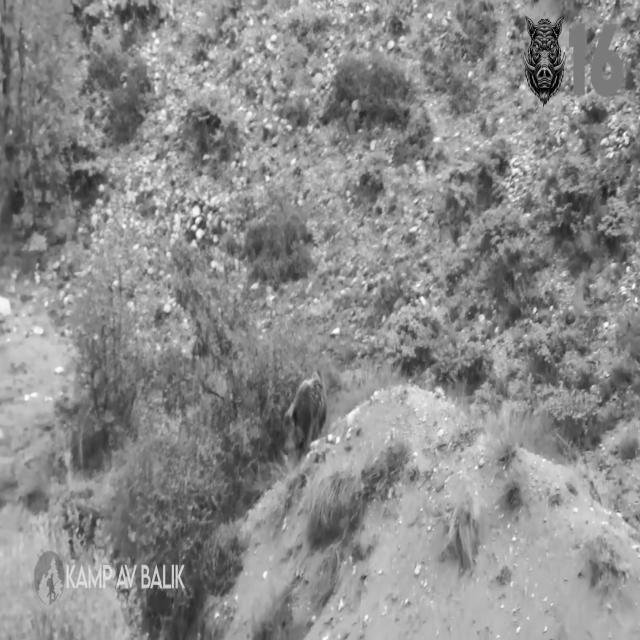boar: (525, 14, 566, 105), (284, 372, 326, 452)
